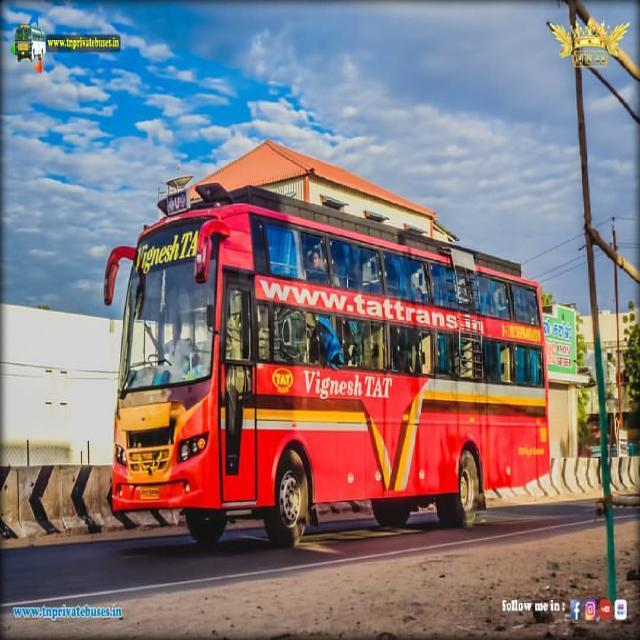Bus: (100, 182, 550, 547)
